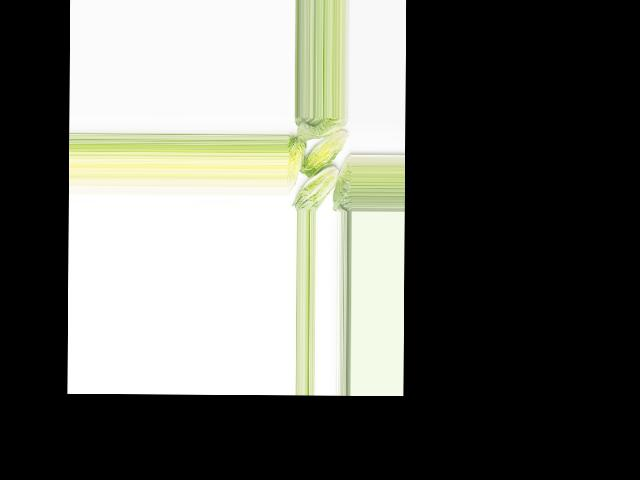lettuce: (294, 116, 346, 142)
